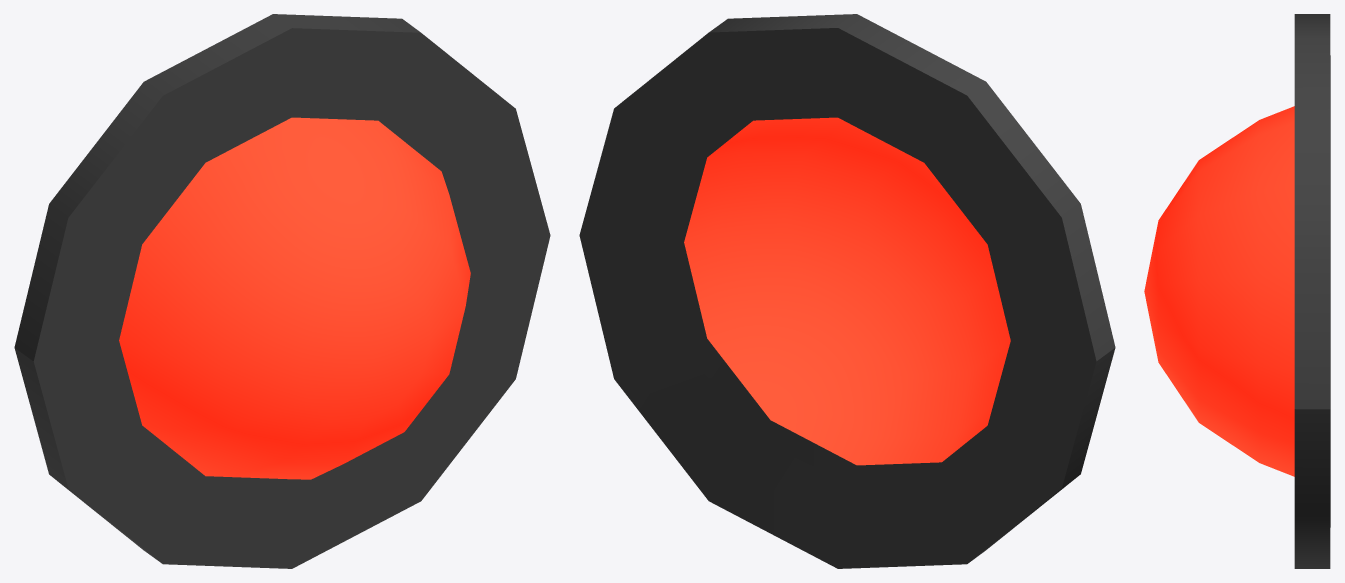
Rendered from light.fbx.
3 views of the same model, side by side, from view 1: azimuth 30°, elevation 25°; view 2: azimuth 150°, elevation 25°; view 3: azimuth 270°, elevation 25° (orthographic). The views are drawn at different scales.
Parts seen in each view (by area): view 1: light; view 2: light; view 3: light.
Part boxes in pixels (box(x1,y1,x2,y2)): light: box(14, 14, 550, 568); light: box(579, 14, 1115, 568); light: box(1144, 14, 1330, 568).
Size of the model in its own units: 94.31 by 94.31 by 31.55.
